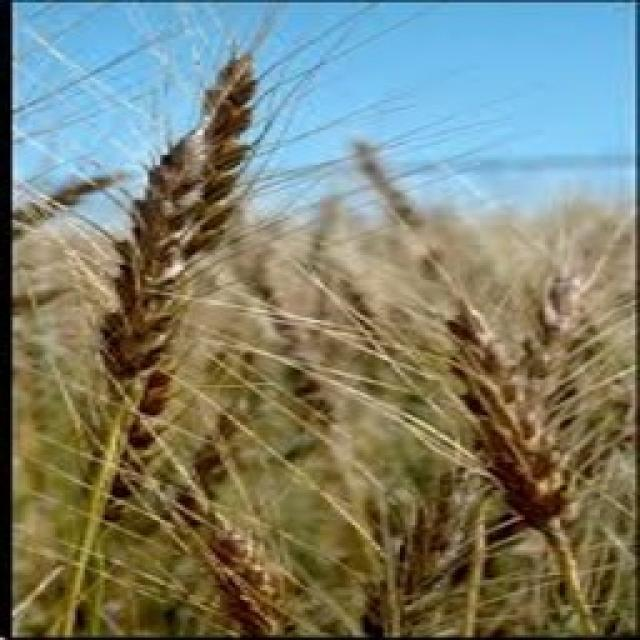Healthy Wheat: (10, 8, 638, 632)
